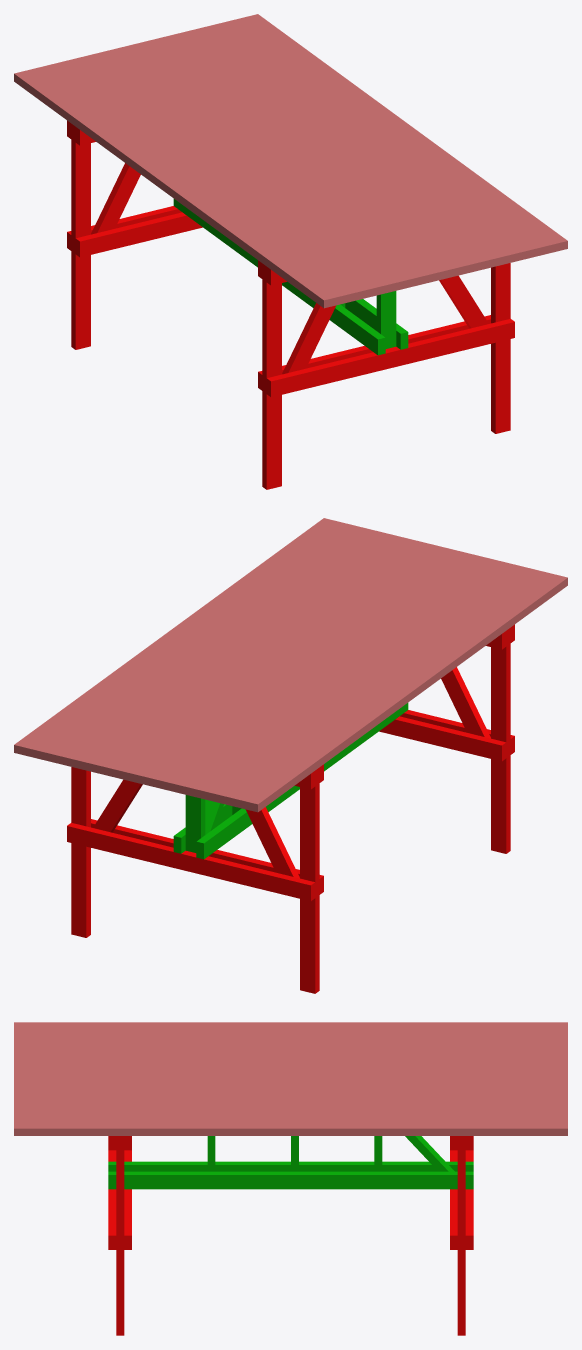
File: result.glb
3 views of the same model, one above another, from view 1: azimuth 30°, elevation 25°; view 2: azimuth 150°, elevation 25°; view 3: azimuth 270°, elevation 25° (orthographic). The views are drawn at different scales.
Parts seen in each view (by area): view 1: 42956836-b153-483c-b208-515db1dbed11__Box, fd94e142-dde1-423a-abea-4840cc2360ef__sideH, 06150f76-2bbd-4b83-95aa-21174f40a421__undefined, dacc77a3-c4ab-40fc-8d03-c8ab5c3c0e16__undefined, 9e8bdb1d-c1bb-46f4-9a5a-3b4217d84827__undefined, 00b3a4c3-6ee9-43a7-afbc-1caa04031e6a__undefined, 0b217f41-6e7e-4be9-af4b-58688f3ce8e9__undefined, 1a5c73a4-1ff0-4227-b931-0b96f6478729__undefined, 98016ee4-e531-4fa0-9082-7ca8aa27abed__undefined, c38fd03b-9916-42e5-80d4-902a2447e71d__undefined, 81274d77-00ec-455c-ac20-6ef82685f3f8__undefined, 76c8344d-c8c6-4dac-9924-9902fbb1b5a3__undefined (+17 smaller); view 2: 42956836-b153-483c-b208-515db1dbed11__Box, a210f074-de97-4639-a69e-4ae65610c694__undefined, 06150f76-2bbd-4b83-95aa-21174f40a421__undefined, dacc77a3-c4ab-40fc-8d03-c8ab5c3c0e16__undefined, 9e8bdb1d-c1bb-46f4-9a5a-3b4217d84827__undefined, 00b3a4c3-6ee9-43a7-afbc-1caa04031e6a__undefined, 0b217f41-6e7e-4be9-af4b-58688f3ce8e9__undefined, 1a5c73a4-1ff0-4227-b931-0b96f6478729__undefined, 98016ee4-e531-4fa0-9082-7ca8aa27abed__undefined, c38fd03b-9916-42e5-80d4-902a2447e71d__undefined, 81274d77-00ec-455c-ac20-6ef82685f3f8__undefined, 76c8344d-c8c6-4dac-9924-9902fbb1b5a3__undefined (+16 smaller); view 3: 00b3a4c3-6ee9-43a7-afbc-1caa04031e6a__undefined, 0ca157a0-e58f-471b-886a-06644053dea4__strutH, c38fd03b-9916-42e5-80d4-902a2447e71d__undefined, 1a5c73a4-1ff0-4227-b931-0b96f6478729__undefined, 76c8344d-c8c6-4dac-9924-9902fbb1b5a3__undefined, 54b39151-4783-435c-bb1c-a3e222f21d45__undefined, 42956836-b153-483c-b208-515db1dbed11__Box, dacc77a3-c4ab-40fc-8d03-c8ab5c3c0e16__undefined, 3b592e4f-9c67-423c-b7e5-192e9b5a87a5__undefined, 0b217f41-6e7e-4be9-af4b-58688f3ce8e9__undefined, 81274d77-00ec-455c-ac20-6ef82685f3f8__undefined, 4303b309-9956-44d2-a9d1-13099fb0d308__undefined (+13 smaller).
Boxes of the visible parts, x1=… form: 42956836-b153-483c-b208-515db1dbed11__Box: x1=14, y1=70, x2=339, y2=308; fd94e142-dde1-423a-abea-4840cc2360ef__sideH: x1=266, y1=318, x2=514, y2=397; 06150f76-2bbd-4b83-95aa-21174f40a421__undefined: x1=197, y1=25, x2=522, y2=263; dacc77a3-c4ab-40fc-8d03-c8ab5c3c0e16__undefined: x1=29, y1=66, x2=354, y2=304; 9e8bdb1d-c1bb-46f4-9a5a-3b4217d84827__undefined: x1=151, y1=36, x2=476, y2=274; 00b3a4c3-6ee9-43a7-afbc-1caa04031e6a__undefined: x1=243, y1=14, x2=567, y2=252; 0b217f41-6e7e-4be9-af4b-58688f3ce8e9__undefined: x1=75, y1=55, x2=400, y2=293; 1a5c73a4-1ff0-4227-b931-0b96f6478729__undefined: x1=91, y1=51, x2=415, y2=289; 98016ee4-e531-4fa0-9082-7ca8aa27abed__undefined: x1=212, y1=21, x2=537, y2=259; c38fd03b-9916-42e5-80d4-902a2447e71d__undefined: x1=45, y1=62, x2=369, y2=300; 81274d77-00ec-455c-ac20-6ef82685f3f8__undefined: x1=106, y1=47, x2=430, y2=285; 76c8344d-c8c6-4dac-9924-9902fbb1b5a3__undefined: x1=136, y1=40, x2=461, y2=278; 42956836-b153-483c-b208-515db1dbed11__Box: x1=242, y1=574, x2=567, y2=812; a210f074-de97-4639-a69e-4ae65610c694__undefined: x1=67, y1=822, x2=315, y2=901; 06150f76-2bbd-4b83-95aa-21174f40a421__undefined: x1=59, y1=529, x2=384, y2=767; dacc77a3-c4ab-40fc-8d03-c8ab5c3c0e16__undefined: x1=227, y1=570, x2=552, y2=808; 9e8bdb1d-c1bb-46f4-9a5a-3b4217d84827__undefined: x1=105, y1=540, x2=430, y2=778; 00b3a4c3-6ee9-43a7-afbc-1caa04031e6a__undefined: x1=14, y1=518, x2=338, y2=756; 0b217f41-6e7e-4be9-af4b-58688f3ce8e9__undefined: x1=181, y1=559, x2=506, y2=797; 1a5c73a4-1ff0-4227-b931-0b96f6478729__undefined: x1=166, y1=555, x2=490, y2=793; 98016ee4-e531-4fa0-9082-7ca8aa27abed__undefined: x1=44, y1=525, x2=369, y2=763; c38fd03b-9916-42e5-80d4-902a2447e71d__undefined: x1=212, y1=566, x2=536, y2=804; 81274d77-00ec-455c-ac20-6ef82685f3f8__undefined: x1=151, y1=551, x2=475, y2=789; 76c8344d-c8c6-4dac-9924-9902fbb1b5a3__undefined: x1=120, y1=544, x2=445, y2=782; 00b3a4c3-6ee9-43a7-afbc-1caa04031e6a__undefined: x1=14, y1=1122, x2=567, y2=1135; 0ca157a0-e58f-471b-886a-06644053dea4__strutH: x1=108, y1=1171, x2=473, y2=1189; c38fd03b-9916-42e5-80d4-902a2447e71d__undefined: x1=14, y1=1035, x2=567, y2=1042; 1a5c73a4-1ff0-4227-b931-0b96f6478729__undefined: x1=14, y1=1055, x2=567, y2=1062; 76c8344d-c8c6-4dac-9924-9902fbb1b5a3__undefined: x1=14, y1=1075, x2=567, y2=1082; 54b39151-4783-435c-bb1c-a3e222f21d45__undefined: x1=14, y1=1095, x2=567, y2=1102; 42956836-b153-483c-b208-515db1dbed11__Box: x1=14, y1=1022, x2=567, y2=1028; dacc77a3-c4ab-40fc-8d03-c8ab5c3c0e16__undefined: x1=14, y1=1029, x2=567, y2=1035; 3b592e4f-9c67-423c-b7e5-192e9b5a87a5__undefined: x1=14, y1=1042, x2=567, y2=1048; 0b217f41-6e7e-4be9-af4b-58688f3ce8e9__undefined: x1=14, y1=1049, x2=567, y2=1055; 81274d77-00ec-455c-ac20-6ef82685f3f8__undefined: x1=14, y1=1062, x2=567, y2=1068; 4303b309-9956-44d2-a9d1-13099fb0d308__undefined: x1=14, y1=1069, x2=567, y2=1075.
Bounding box in the file's own units: 800 × 725 × 1760.
